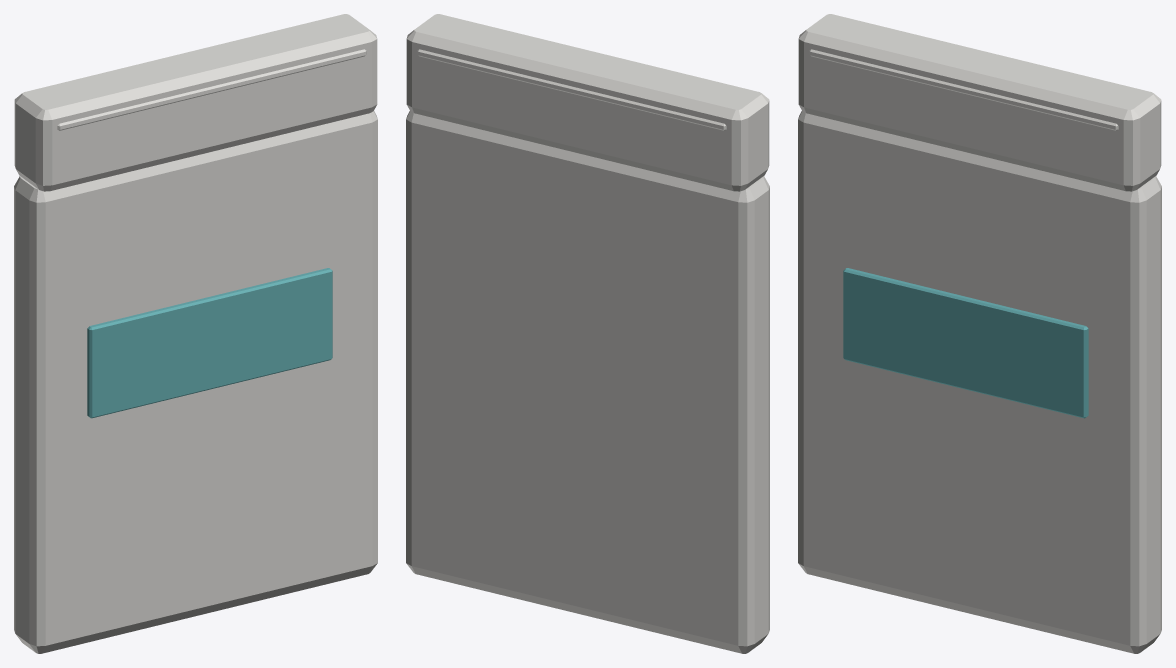
The model's file is fast-food-and-drive-thru-paper-bag-folded-5a61e62e__16167.glb.
3 renders of one model, left to right at view 1: azimuth 30°, elevation 25°; view 2: azimuth 150°, elevation 25°; view 3: azimuth 330°, elevation 25°, orthographic.
Visible parts, largest first — view 1: paper-bag-folded; view 2: paper-bag-folded; view 3: paper-bag-folded.
Boxes of the visible parts, bbox=[...] form: paper-bag-folded: bbox=[14, 14, 377, 653]; paper-bag-folded: bbox=[406, 14, 769, 653]; paper-bag-folded: bbox=[798, 14, 1161, 653].
Size of the model in its own units: 0.2 by 0.3 by 0.034.
